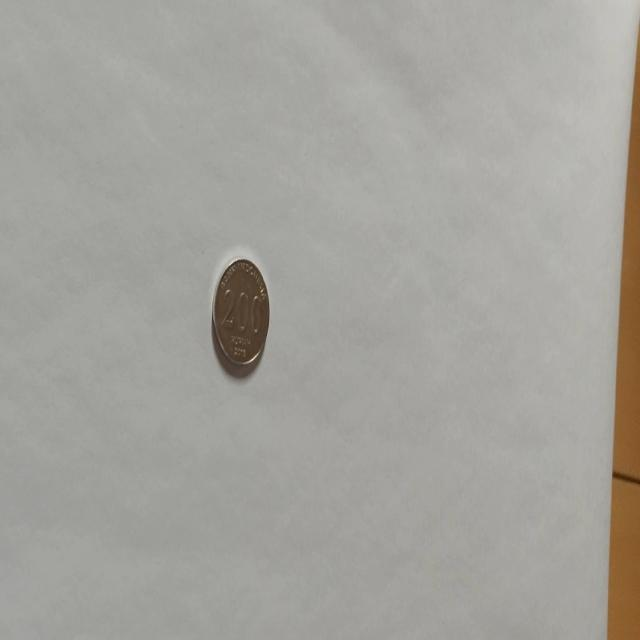dua ratus rupiah: (211, 255, 270, 368)
